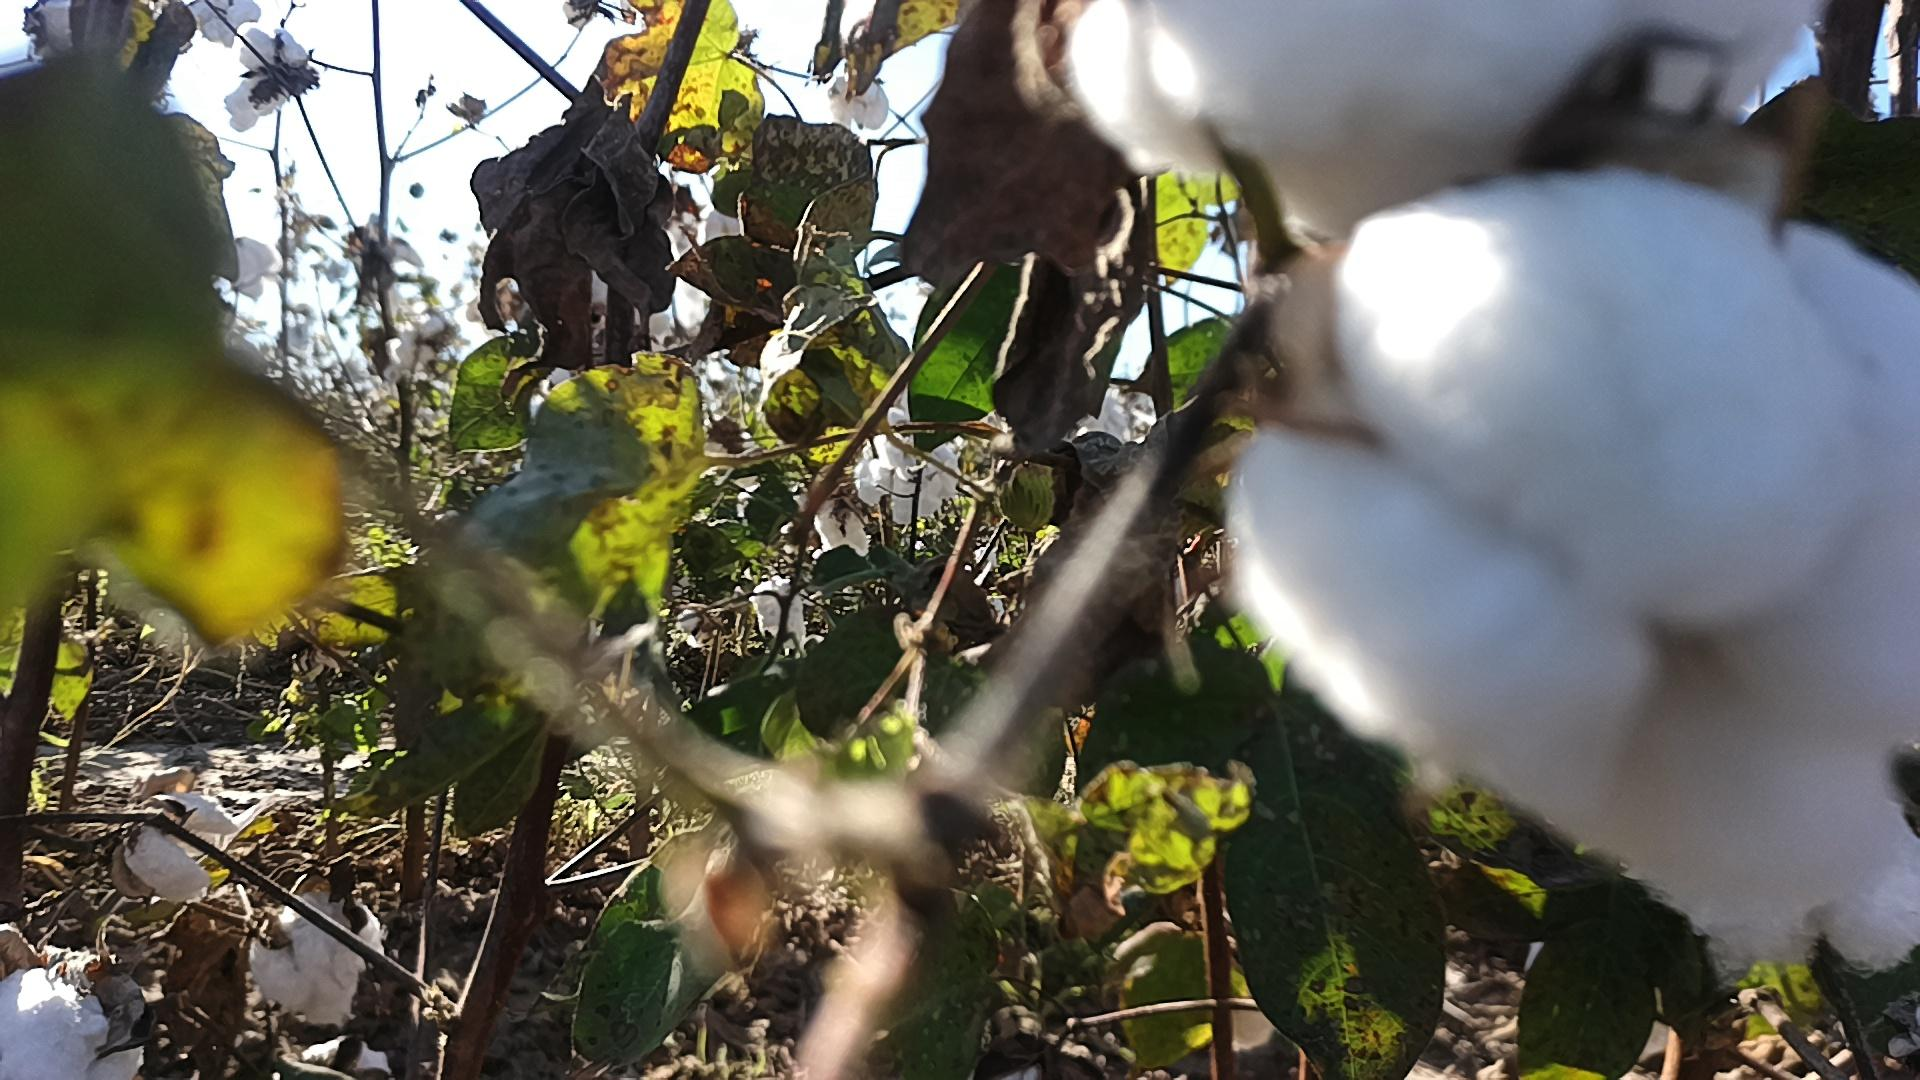cotton_ready: (1213, 170, 1920, 977), (1048, 0, 1824, 245), (245, 895, 388, 1027), (0, 963, 158, 1080), (123, 783, 241, 905)
